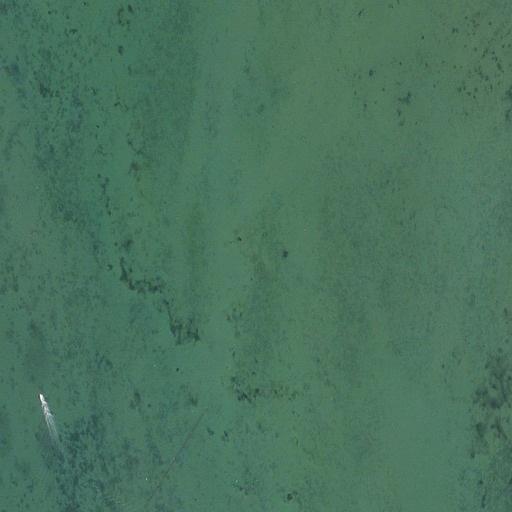ship: (36, 393, 49, 408)
